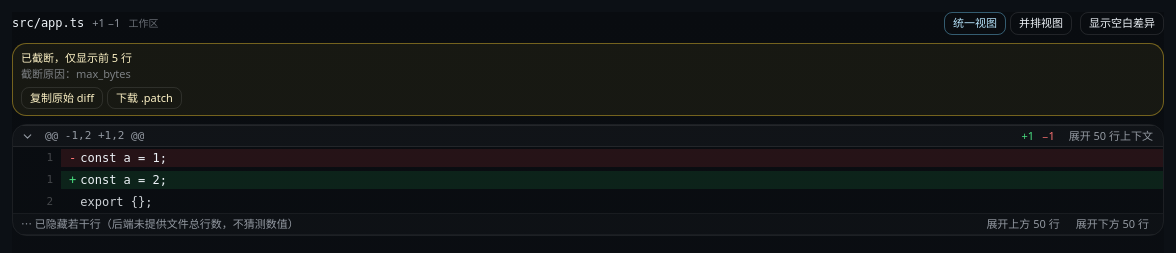
Test case: GitDiffView › truncated → 显示截断行数与 truncated_reason，并提供复制 / 下载 .patch
The width and height of the screenshot is (1176, 253).
Check: the message with test id "git-diff-truncated" shows "已截断", box [21, 50, 132, 64]
Click the button "复制原始 diff". click: (62, 98)
box: [21, 86, 103, 109]
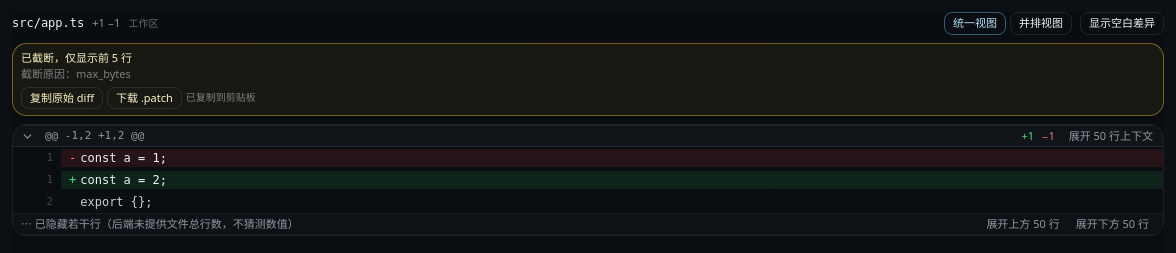
Check: the button "下载 .patch" is shown, box [107, 86, 182, 109]
Check: the message with test id "git-diff-truncated" shows "已复制到剪贴板", box [186, 90, 256, 104]
